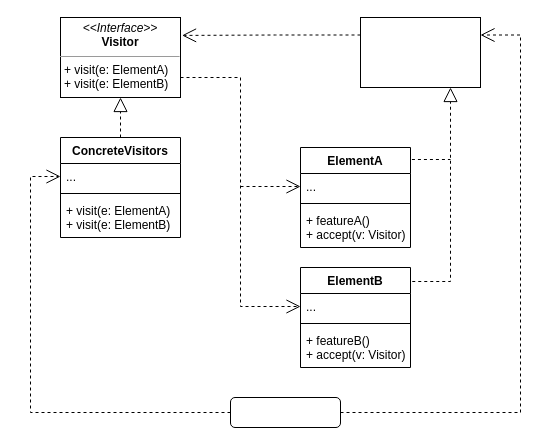
The diagram is 552 pixels wide and 445 high, and some of its shapes have lost their labels. The shapes that lost their labels are listed below. From the top down, each one's centre as x and y in pixels, then its label:
point 420,52: <<Interface>> Element + accept(v: Visitor)
point 285,412: Client
